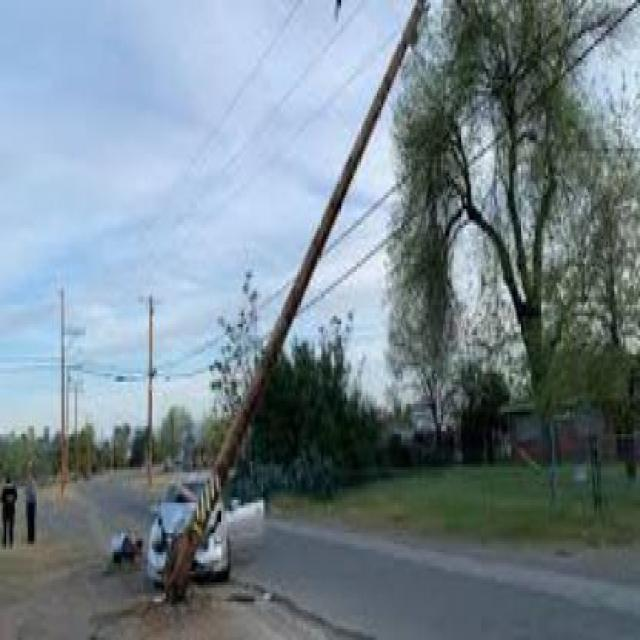accident: (146, 440, 274, 590)
